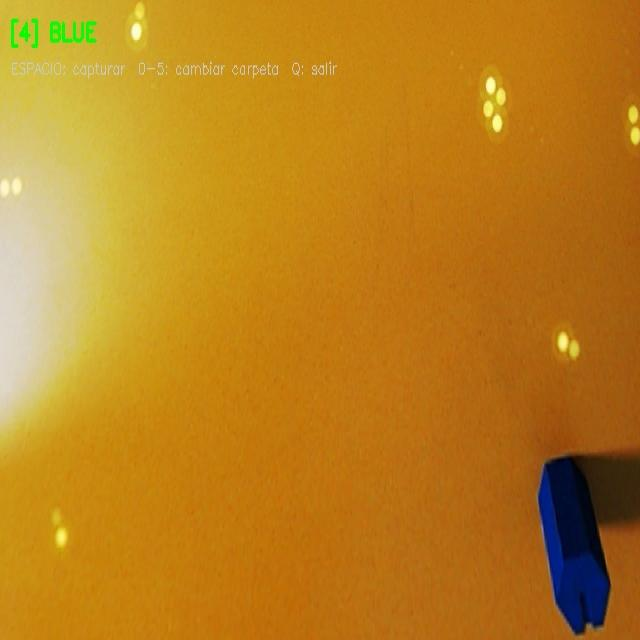blue: (538, 456, 610, 635)
